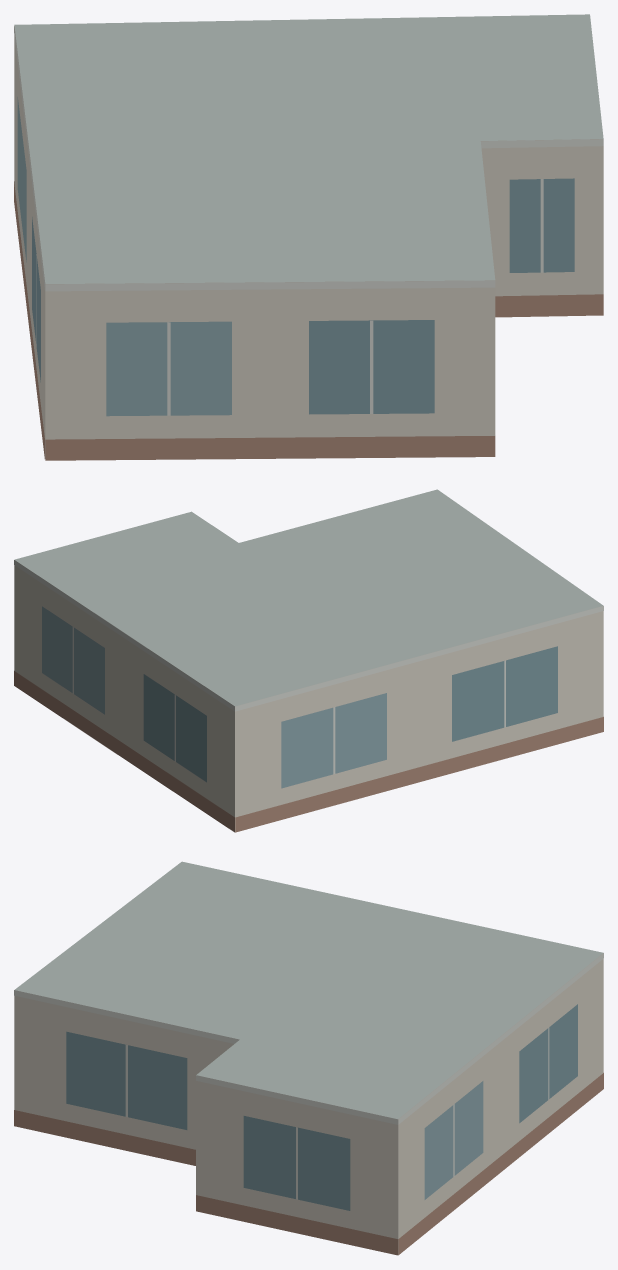
File: survey-upis-32828087.glb
3 views of the same model, one above another, from view 1: azimuth 30°, elevation 25°; view 2: azimuth 150°, elevation 25°; view 3: azimuth 270°, elevation 25° (orthographic). The views are drawn at different scales.
Visible parts, largest first — view 1: survey-upis-32828087.tmp; view 2: survey-upis-32828087.tmp; view 3: survey-upis-32828087.tmp.
Boxes of the visible parts, x1,y1,x2,y2 form: survey-upis-32828087.tmp: (14, 14, 603, 460); survey-upis-32828087.tmp: (14, 489, 603, 832); survey-upis-32828087.tmp: (14, 861, 603, 1255).
Size of the model in its own units: 12.4 by 3.05 by 11.98.
